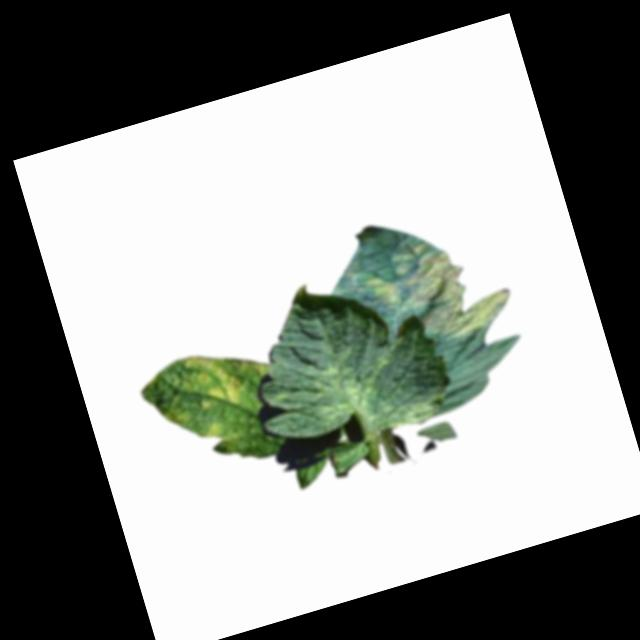Leaf_Mold: (356, 222, 518, 360), (149, 338, 278, 450)
